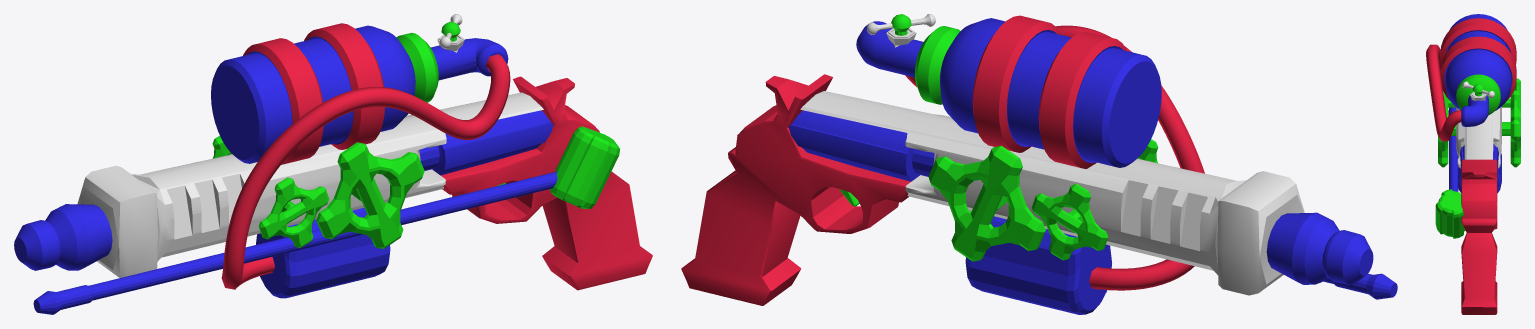
The model's file is gun_blockingcolorsfbx.fbx.
The picture shows the model from 3 angles, left to right: view 1: azimuth 30°, elevation 25°; view 2: azimuth 150°, elevation 25°; view 3: azimuth 270°, elevation 25°; orthographic projection. The views are drawn at different scales.
Parts seen in each view (by area): view 1: Cube.003, Cube.022, Cube.005, Cube.020, Cube.009, Cube.012, Cube.011, Cube.008, Cube.006, Cube.010, Cube.023, Cube.016; view 2: Cube.003, Cube.022, Cube.005, Cube.014, Cube.011, Cube.008, Cube.006, Cube.020, Cube.023, Cube.018, Cube.009, Cube.007; view 3: Cube.005, Cube.022, Cube.003, Cube.023, Cube.020, Cube.010, Cube.014, Cube.009, Cube.012, Cube.011, Cube.006, Cube.004 (+3 smaller).
Part boxes in pixels (x1,y1,x2,y2): Cube.003: (77, 92, 543, 277); Cube.022: (211, 23, 415, 164); Cube.005: (441, 76, 652, 290); Cube.020: (221, 54, 510, 289); Cube.009: (33, 171, 557, 314); Cube.012: (316, 142, 424, 248); Cube.011: (256, 207, 390, 298); Cube.008: (14, 204, 112, 270); Cube.006: (432, 110, 553, 175); Cube.010: (549, 126, 619, 208); Cube.023: (396, 32, 508, 102); Cube.016: (258, 177, 329, 247); Cube.003: (800, 91, 1304, 295); Cube.022: (940, 15, 1161, 168); Cube.005: (681, 74, 910, 305); Cube.014: (928, 145, 1045, 261); Cube.011: (965, 216, 1111, 314); Cube.008: (1266, 212, 1373, 284); Cube.006: (788, 110, 919, 181); Cube.020: (905, 25, 1204, 290); Cube.023: (856, 21, 960, 104); Cube.018: (1032, 184, 1108, 260); Cube.009: (1323, 273, 1397, 299); Cube.007: (912, 149, 934, 176); Cube.005: (1461, 159, 1497, 314); Cube.022: (1440, 14, 1516, 110); Cube.003: (1456, 106, 1501, 168); Cube.023: (1456, 74, 1500, 126); Cube.020: (1426, 44, 1461, 141); Cube.010: (1435, 189, 1465, 238); Cube.014: (1510, 90, 1520, 167); Cube.009: (1449, 107, 1458, 191); Cube.012: (1438, 91, 1448, 167); Cube.011: (1458, 153, 1501, 193); Cube.006: (1460, 144, 1498, 172); Cube.004: (1462, 81, 1494, 98).
Bounding box in the file's own units: 638 × 298 × 137.
